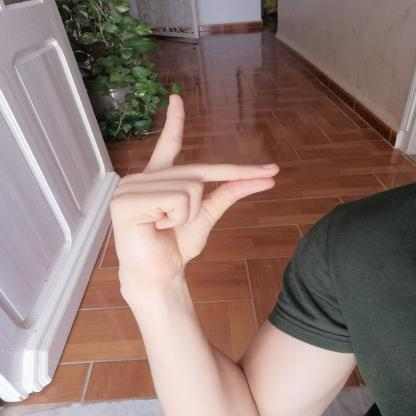TAA: (96, 84, 288, 291)
